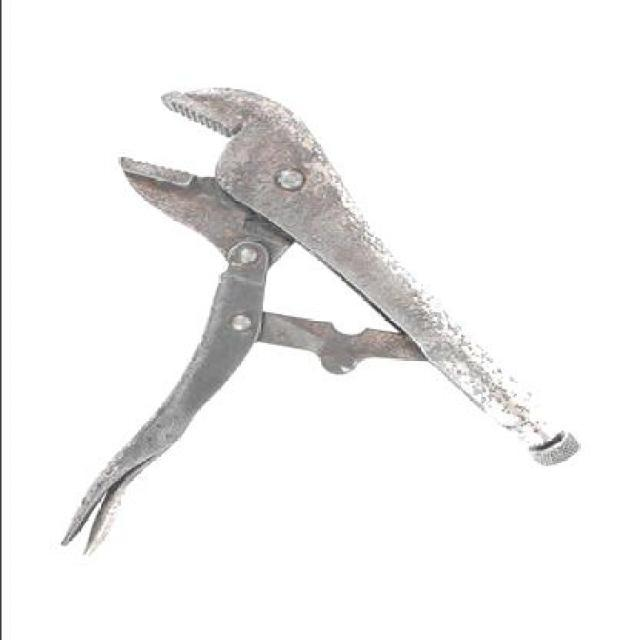pliers: (54, 88, 582, 562)
